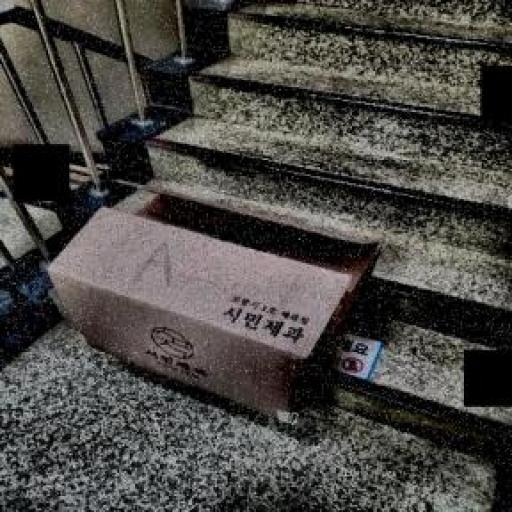box: (33, 174, 395, 432)
